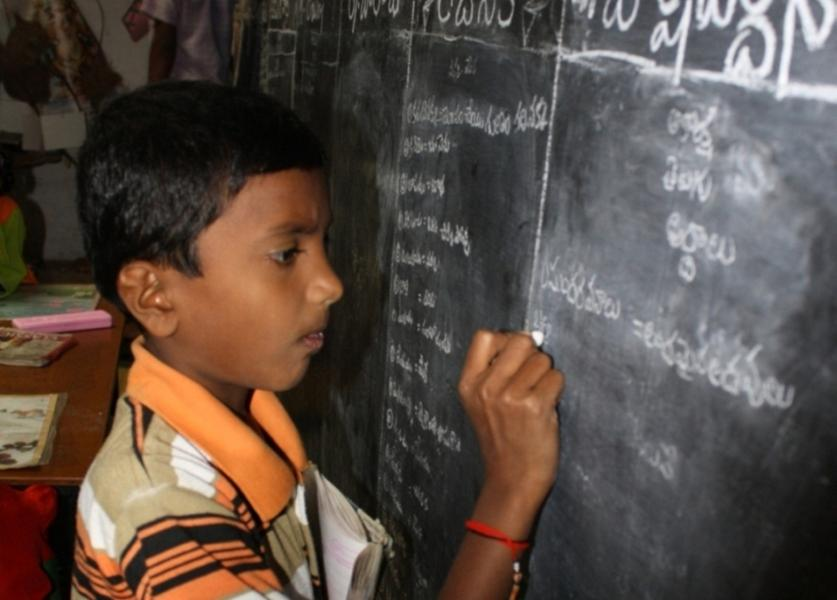person: (73, 84, 564, 600)
